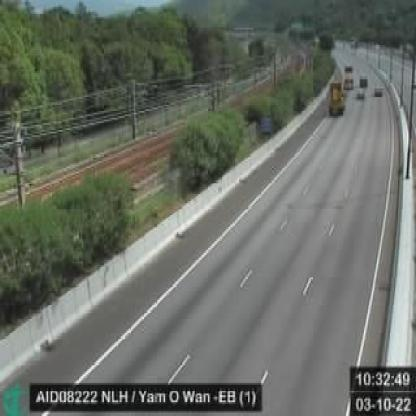Truck: (326, 82, 344, 112)
